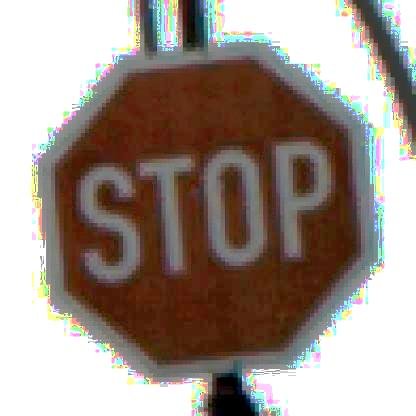Stop Sign: (39, 31, 375, 376)
